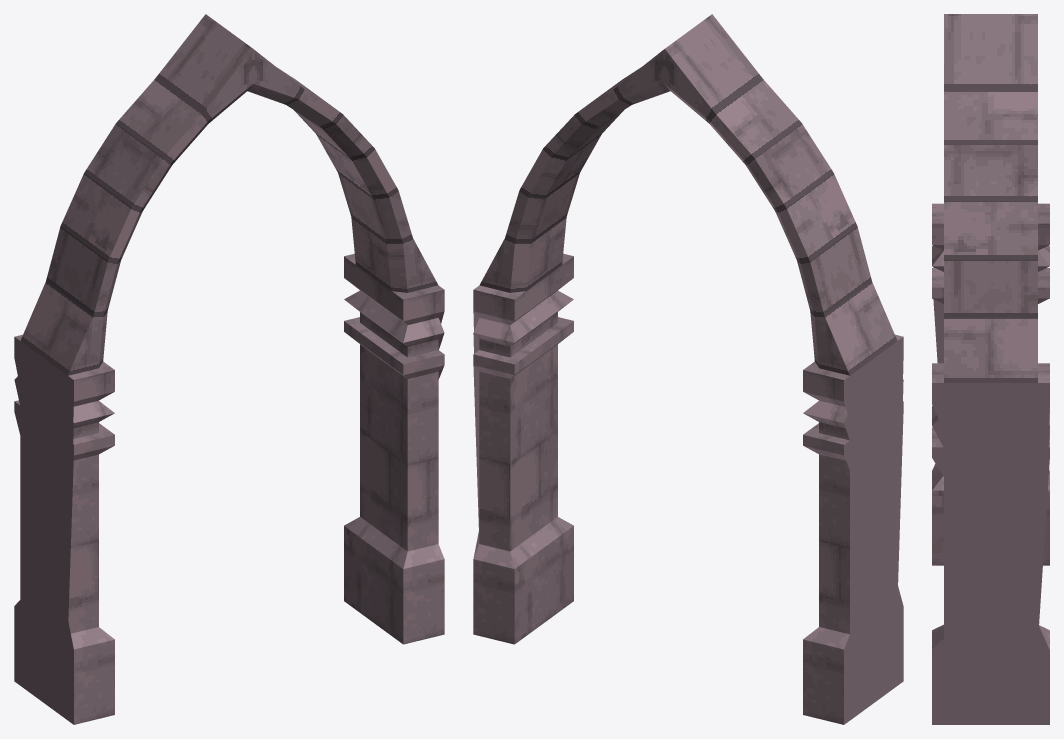
The model's file is ceiling_arch_b.glb.
3 renders of one model, left to right at view 1: azimuth 30°, elevation 25°; view 2: azimuth 150°, elevation 25°; view 3: azimuth 270°, elevation 25°, orthographic.
Visible parts, largest first — view 1: arch, pillar_left, pillar_right; view 2: arch, pillar_right, pillar_left; view 3: pillar_right, arch, pillar_left.
Part boxes in pixels (x1,y1,x2,y2): arch: (20, 14, 438, 375); pillar_left: (14, 334, 114, 724); pillar_right: (344, 253, 444, 644); arch: (479, 14, 897, 375); pillar_right: (473, 253, 573, 644); pillar_left: (803, 334, 903, 724); pillar_right: (932, 363, 1049, 724); arch: (944, 14, 1037, 382); pillar_left: (932, 203, 1049, 565).
Size of the model in its own units: 2.25 by 3.63 by 0.625.
Materials: 1 (1 with a texture image).
